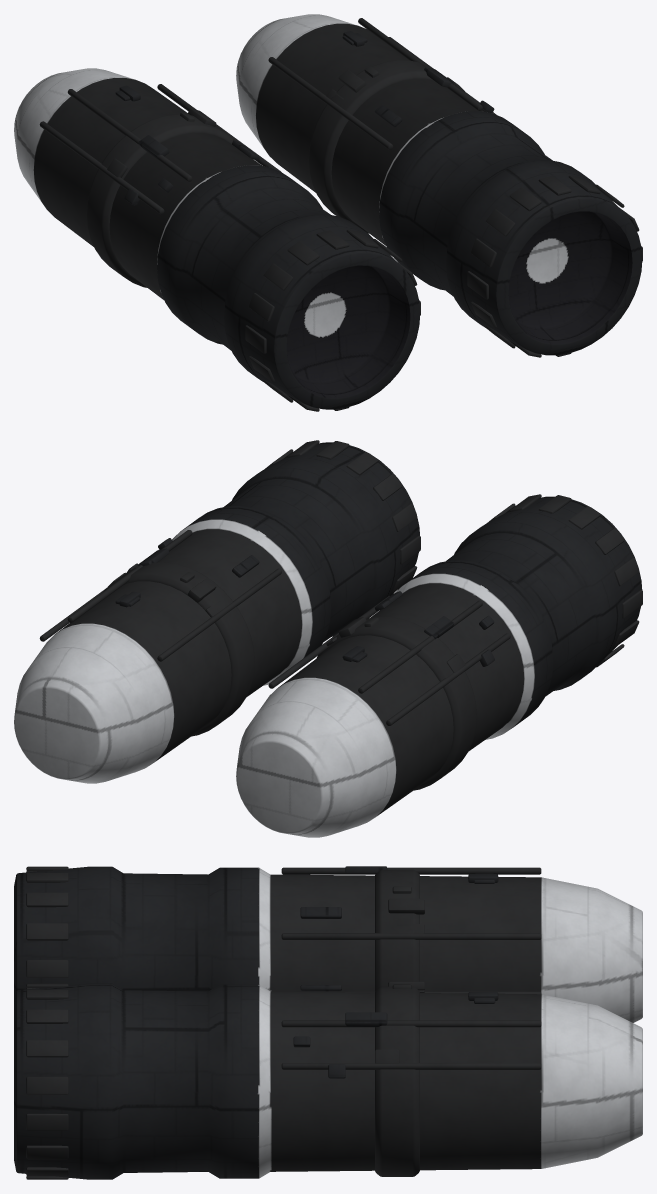
The model's file is Motores.fbx.
The picture shows the model from 3 angles, top to bottom: view 1: azimuth 30°, elevation 25°; view 2: azimuth 150°, elevation 25°; view 3: azimuth 270°, elevation 25°; orthographic projection. The views are drawn at different scales.
Parts seen in each view (by area): view 1: Motores; view 2: Motores; view 3: Motores.
Part boxes in pixels (x1,y1,x2,y2): Motores: [14, 14, 642, 411]; Motores: [14, 440, 642, 837]; Motores: [14, 866, 642, 1179].
Size of the model in its own units: 838 by 348 by 1114.
